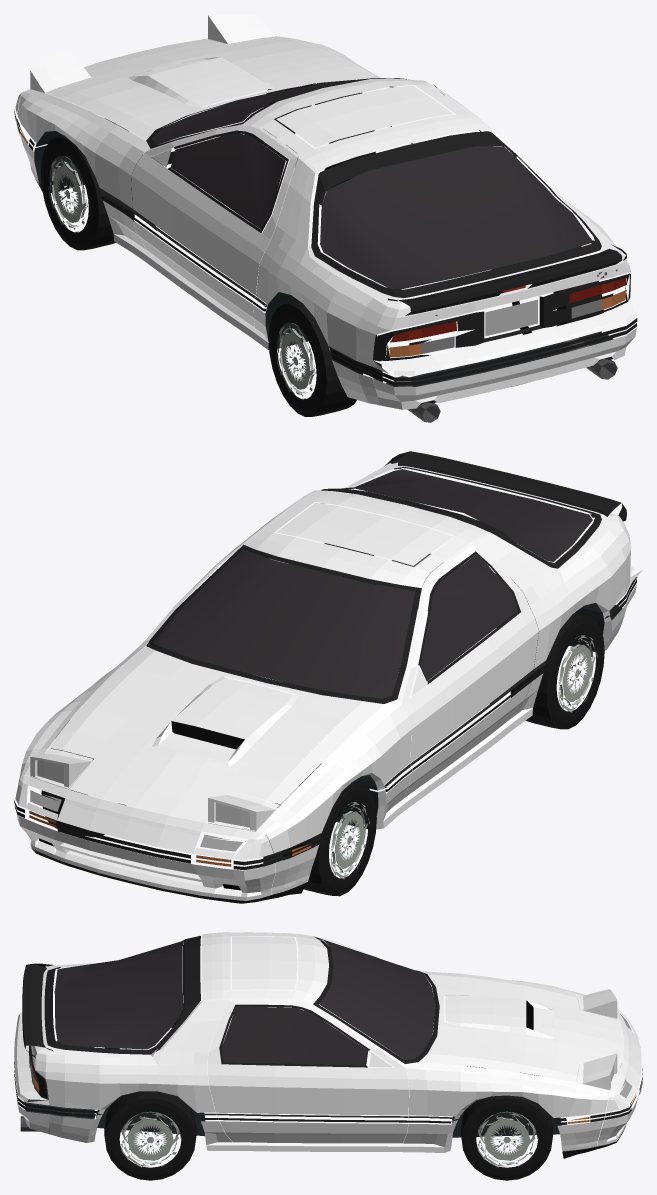
3 views of the same model, one above another, from view 1: azimuth 30°, elevation 25°; view 2: azimuth 150°, elevation 25°; view 3: azimuth 270°, elevation 25° (orthographic). The views are drawn at different scales.
Visible parts, largest first — view 1: Headlights; view 2: Headlights; view 3: Headlights.
Boxes of the visible parts, box(x1,y1,x2,y2) form: Headlights: box(14, 14, 637, 422); Headlights: box(14, 451, 642, 903); Headlights: box(14, 932, 642, 1180).
Bounding box in the file's own units: 1.79 × 1.27 × 4.3.
6 materials, 1 textured.
